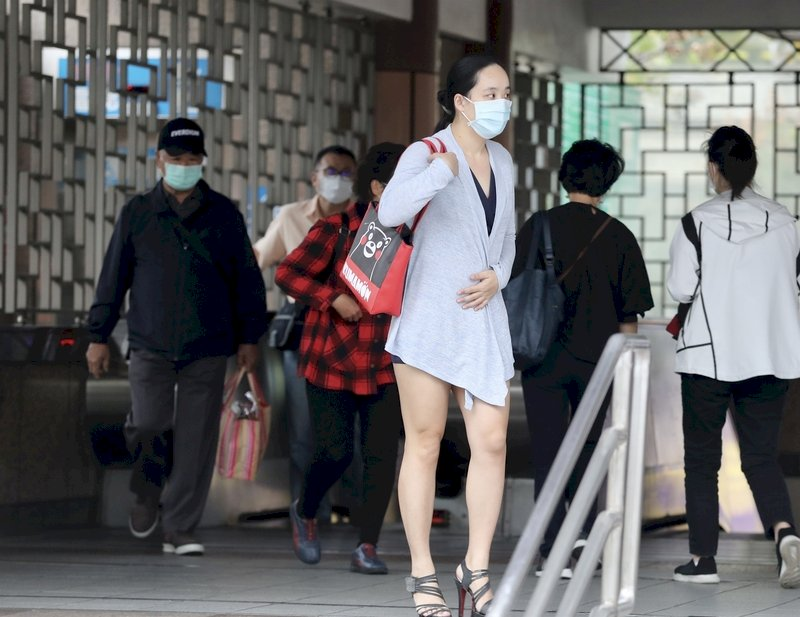with_mask: (476, 79, 515, 140), (314, 161, 356, 205), (173, 146, 203, 193)
